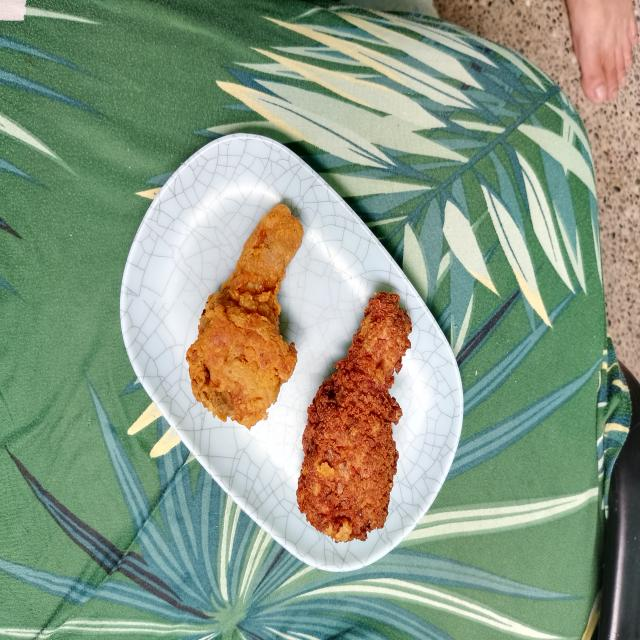Chicken -Fried Chicken-: (290, 277, 415, 549), (183, 188, 312, 434)
